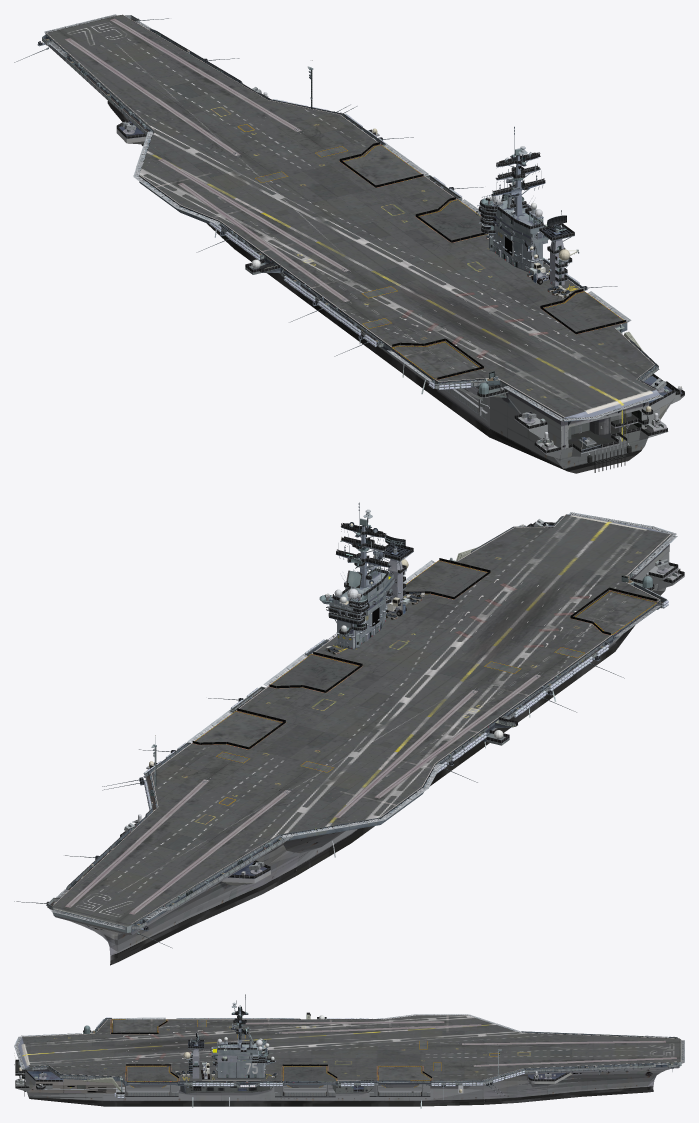
File: truman.glb
The picture shows the model from 3 angles, top to bottom: view 1: azimuth 30°, elevation 25°; view 2: azimuth 150°, elevation 25°; view 3: azimuth 270°, elevation 25°; orthographic projection. The views are drawn at different scales.
Visible parts, largest first — view 1: Flightdeck, hull_3, island, deck_c, deck_n, cat-deck-1, hull_2, deck_t, hull_1, JBD-1; view 2: Flightdeck, hull_1, deck_c, island, deck_n, cat-deck-1, hull_2, deck_t, hull_3, JBD-1, Howdah-warning-stripes; view 3: Flightdeck, hull_2, hull_1, deck_c, island, hull_3, deck_n, cat-deck-1, deck_t, Howdah-warning-stripes, Elevator, JBD-1.
Part boxes in pixels (box(x1,y1,x2,y2)): Flightdeck: box(46, 15, 655, 417); hull_3: box(263, 92, 684, 473); island: box(251, 126, 651, 411); deck_c: box(133, 131, 631, 389); deck_n: box(14, 14, 617, 356); cat-deck-1: box(65, 18, 349, 301); hull_2: box(207, 129, 684, 437); deck_t: box(430, 236, 663, 425); hull_1: box(48, 45, 666, 421); JBD-1: box(256, 146, 396, 328); Flightdeck: box(53, 514, 671, 924); hull_1: box(53, 519, 669, 965); deck_c: box(187, 560, 661, 837); island: box(149, 502, 652, 767); deck_n: box(14, 656, 624, 948); cat-deck-1: box(65, 674, 541, 914); hull_2: box(146, 639, 615, 875); deck_t: box(326, 512, 677, 654); hull_3: box(132, 522, 684, 823); JBD-1: box(217, 647, 583, 772); Howdah-warning-stripes: box(195, 560, 656, 805); Flightdeck: box(22, 1015, 679, 1084); hull_2: box(36, 1012, 483, 1108); hull_1: box(38, 1017, 679, 1104); deck_c: box(97, 1012, 521, 1087); island: box(19, 994, 462, 1092); hull_3: box(14, 1030, 539, 1106); deck_n: box(187, 1015, 684, 1099); cat-deck-1: box(245, 1021, 676, 1066); deck_t: box(14, 1018, 277, 1081); Howdah-warning-stripes: box(112, 1019, 499, 1081); Elevator: box(157, 1028, 430, 1084); JBD-1: box(198, 1020, 441, 1070).
Size of the model in its own units: 102 by 68.21 by 336.
22 materials, 19 textured.
